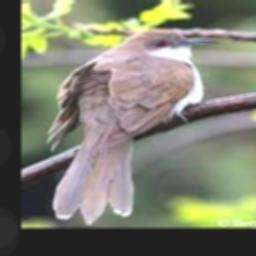Cuckoo: (45, 28, 217, 222)
